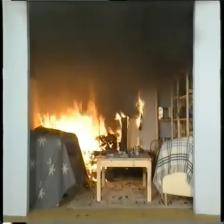fire: (41, 103, 114, 164)
